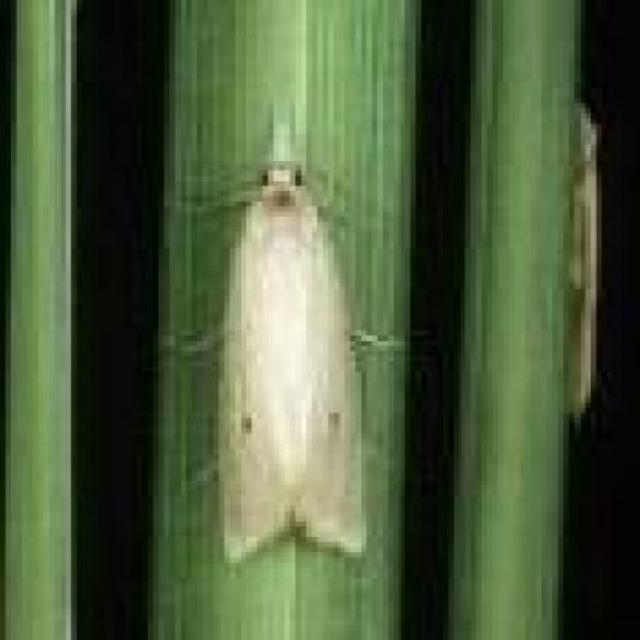stem-borer: (189, 112, 374, 576)
